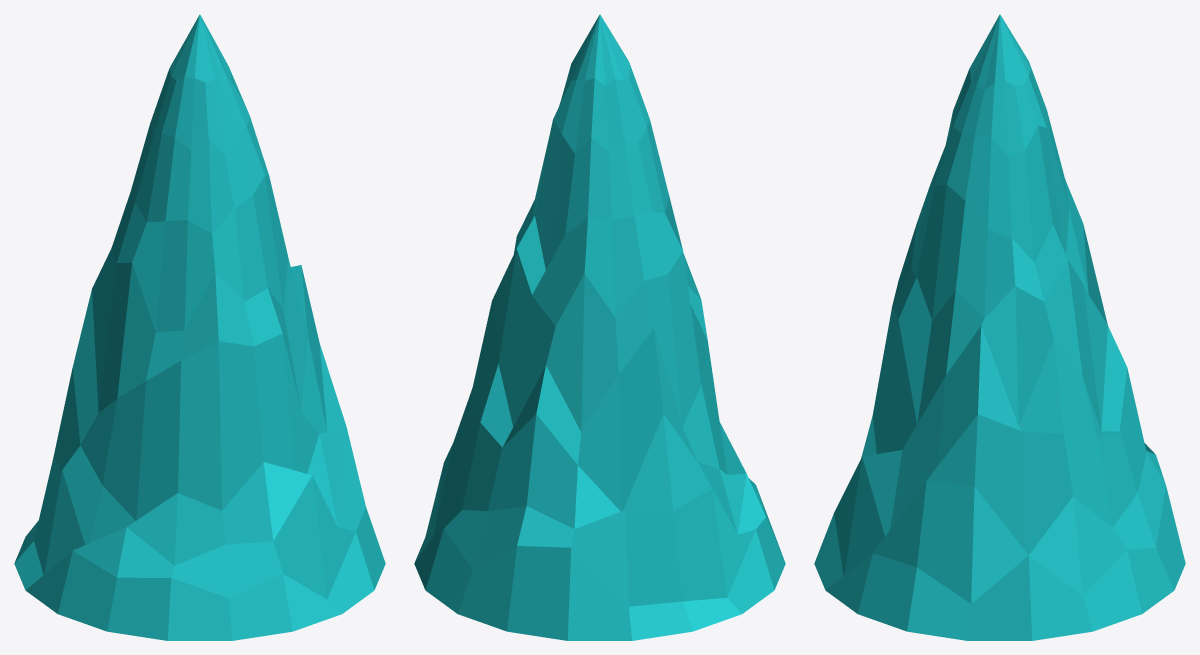
The model's file is iceCube.fbx.
3 renders of one model, left to right at view 1: azimuth 30°, elevation 25°; view 2: azimuth 150°, elevation 25°; view 3: azimuth 270°, elevation 25°, orthographic.
Parts seen in each view (by area): view 1: Circle; view 2: Circle; view 3: Circle.
Part boxes in pixels (x1=…): Circle: x1=14, y1=14, x2=385, y2=640; Circle: x1=414, y1=14, x2=785, y2=640; Circle: x1=814, y1=14, x2=1185, y2=640.
Size of the model in its own units: 1.97 by 3.27 by 2.
